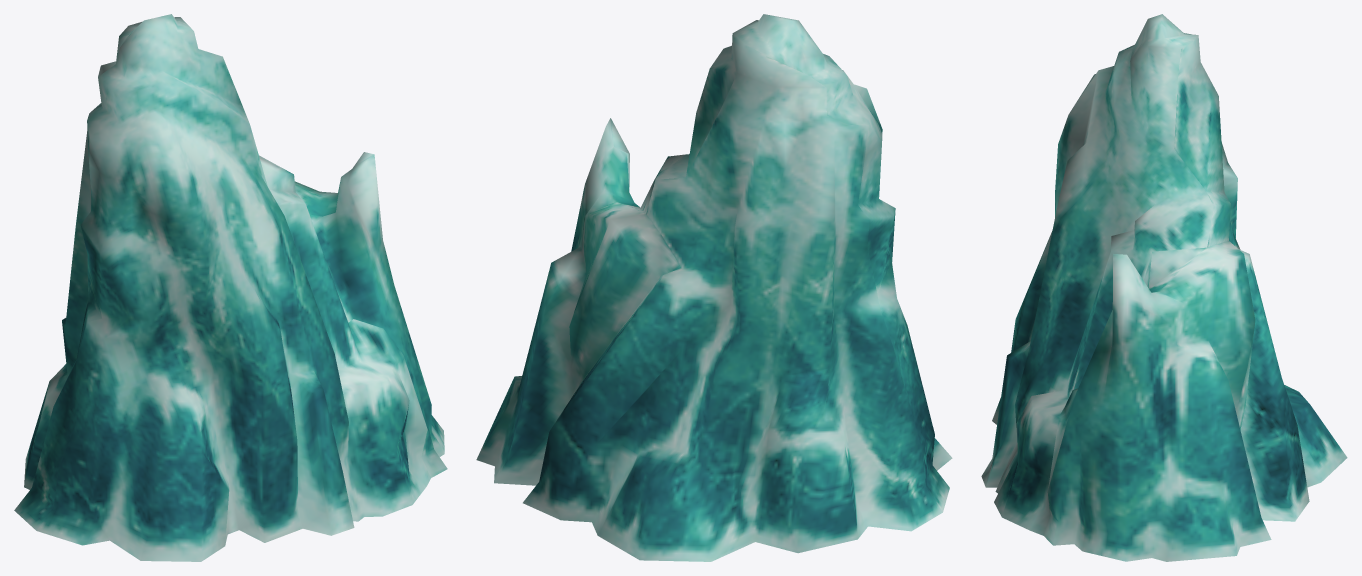
The model's file is SV_MOT_xueyuan_rock_4.FBX.
The picture shows the model from 3 angles, left to right: view 1: azimuth 30°, elevation 25°; view 2: azimuth 150°, elevation 25°; view 3: azimuth 270°, elevation 25°; orthographic projection. The views are drawn at different scales.
Visible parts, largest first — view 1: SV_MOT_xueyuan_rock_4; view 2: SV_MOT_xueyuan_rock_4; view 3: SV_MOT_xueyuan_rock_4.
Boxes of the visible parts, box(x1,y1,x2,y2) form: SV_MOT_xueyuan_rock_4: box(14, 14, 447, 561); SV_MOT_xueyuan_rock_4: box(476, 14, 952, 561); SV_MOT_xueyuan_rock_4: box(981, 14, 1347, 561).
Size of the model in its own units: 8.06 by 8.75 by 6.86.
1 material, 1 textured.
